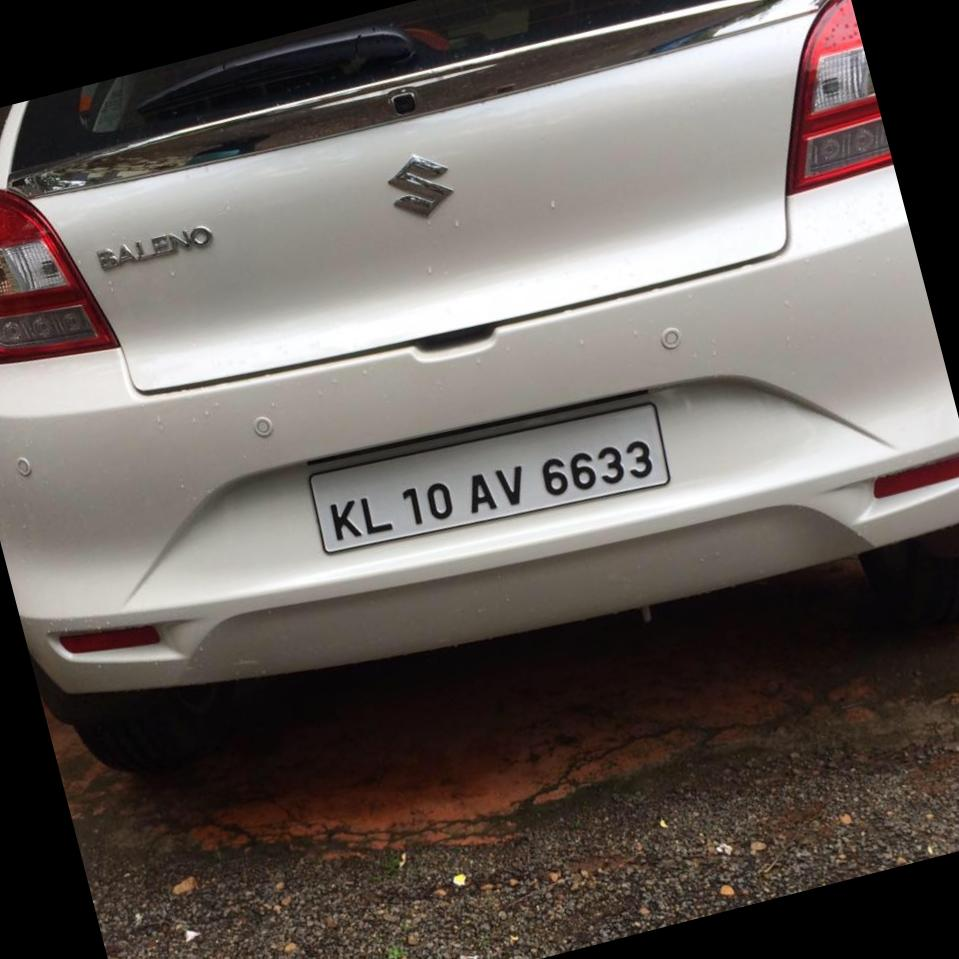plate: (292, 373, 678, 576)
